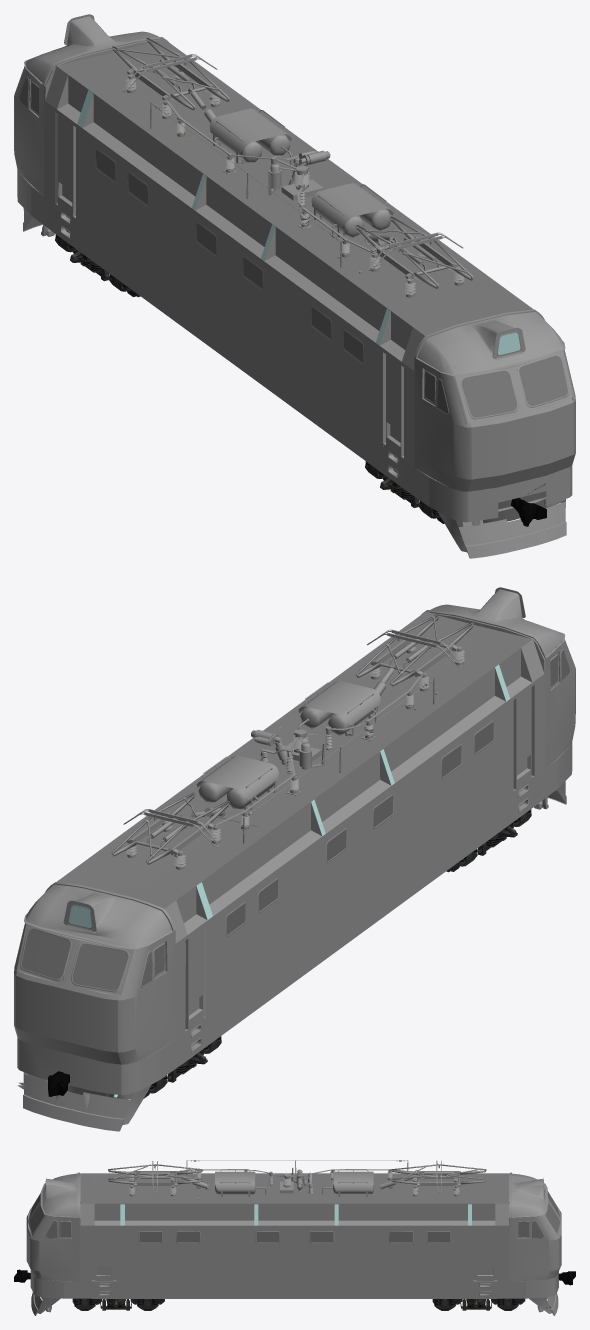
Rendered from 重载火车头.fbx.
3 views of the same model, one above another, from view 1: azimuth 30°, elevation 25°; view 2: azimuth 150°, elevation 25°; view 3: azimuth 270°, elevation 25° (orthographic). The views are drawn at different scales.
Visible parts, largest first — view 1: 重载火车头_车体, 前构架, 后构架; view 2: 重载火车头_车体, 后构架, 前构架; view 3: 重载火车头_车体, 后构架, 前构架.
Part boxes in pixels (left/top/right/bottom): 重载火车头_车体: left=14, top=14, right=575, bottom=558; 前构架: left=365, top=461, right=440, bottom=518; 后构架: left=55, top=234, right=131, bottom=291; 重载火车头_车体: left=14, top=587, right=575, bottom=1131; 后构架: left=147, top=1036, right=221, bottom=1093; 前构架: left=455, top=809, right=531, bottom=866; 重载火车头_车体: left=14, top=1160, right=575, bottom=1315; 后构架: left=434, top=1298, right=525, bottom=1310; 前构架: left=74, top=1298, right=164, bottom=1310.
Bounding box in the file's own units: 126 × 207 × 787.
